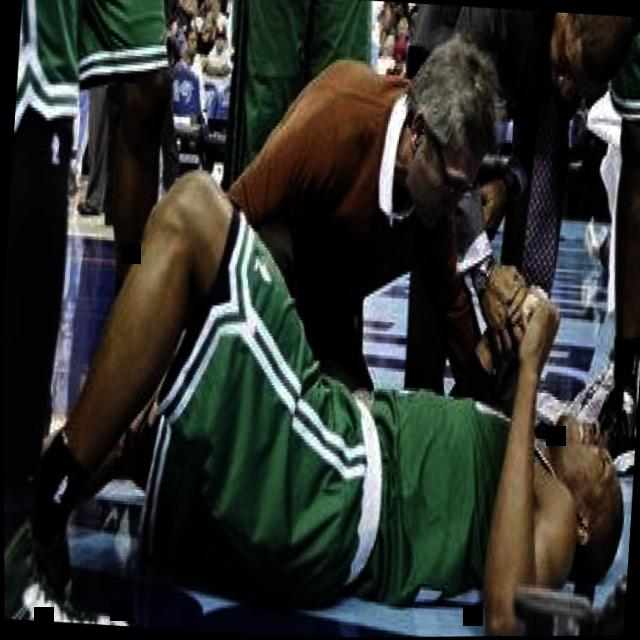Fall-Detected: (1, 160, 640, 640)
